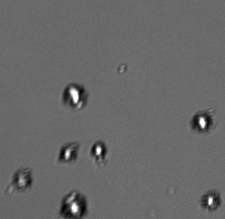Living Cell: (61, 190, 88, 215), (61, 82, 85, 108), (189, 111, 214, 132), (12, 168, 34, 191), (56, 143, 79, 162), (201, 189, 219, 209), (89, 139, 107, 158)
